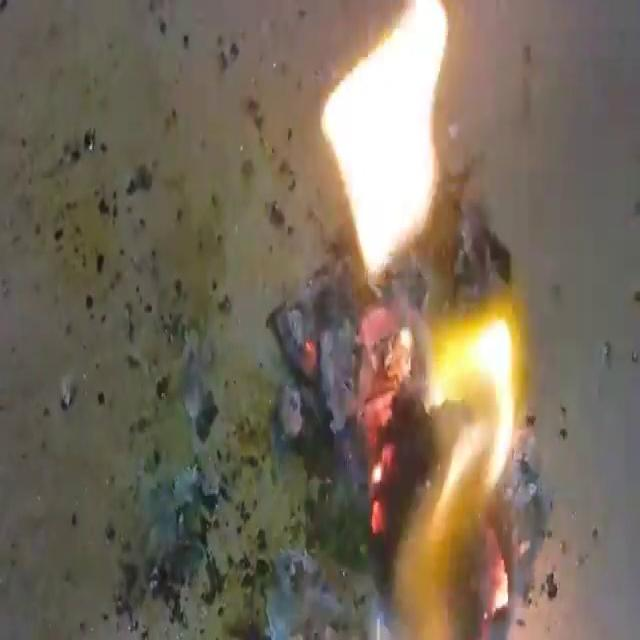Fire: (283, 0, 582, 640), (318, 3, 452, 281)
